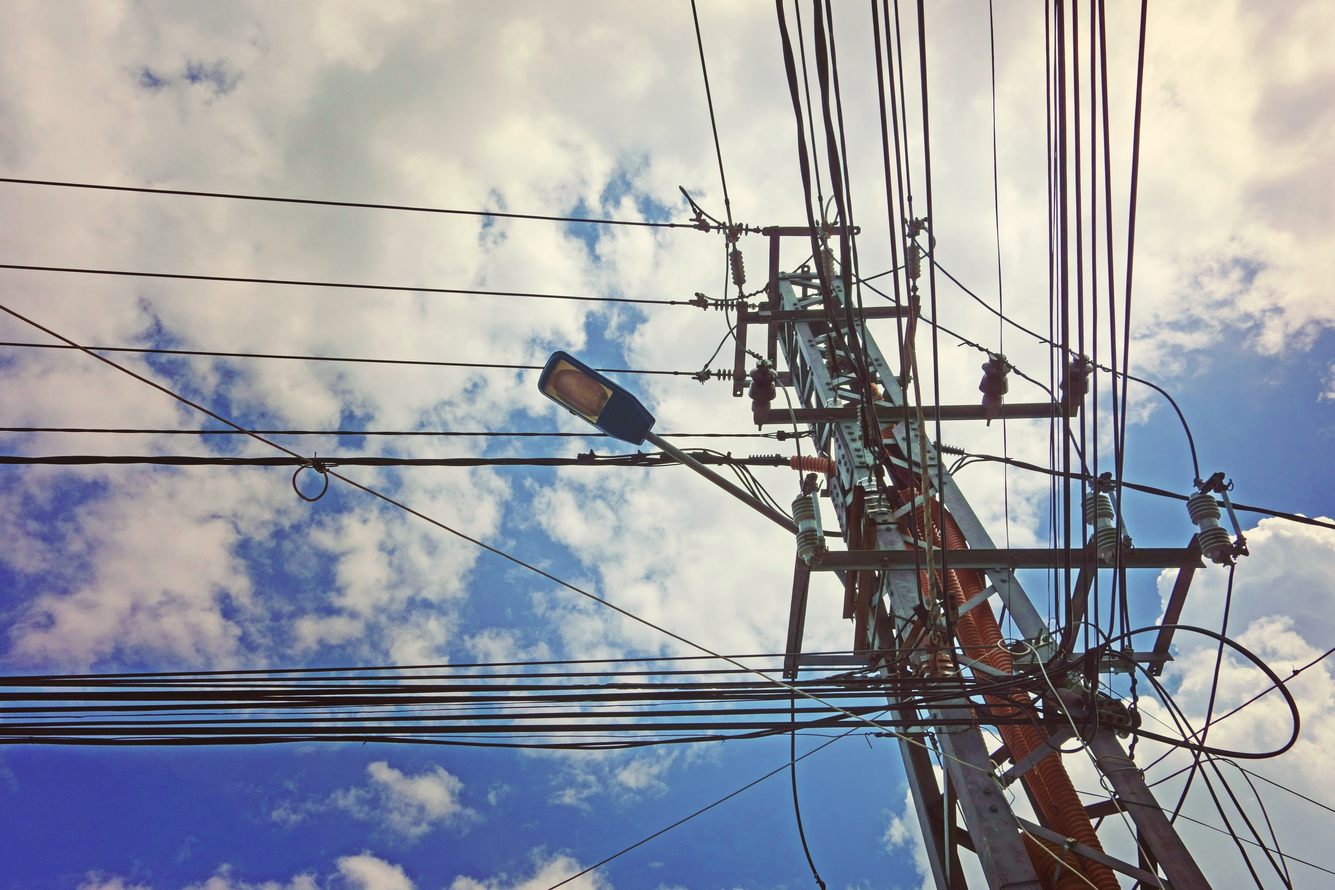insulator: (1182, 491, 1238, 561), (1073, 493, 1122, 562), (788, 496, 830, 564), (972, 348, 1010, 416), (1054, 352, 1095, 410), (722, 242, 748, 286), (818, 246, 836, 284), (904, 243, 921, 281), (819, 333, 838, 365), (856, 401, 870, 436), (715, 367, 747, 380)
